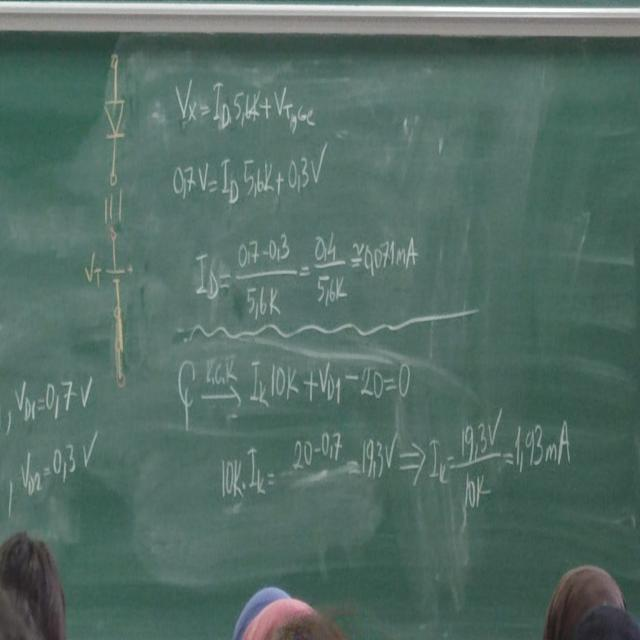image: (80, 38, 148, 198), (78, 221, 150, 363)
math: (215, 413, 578, 522), (182, 224, 427, 318), (246, 342, 418, 418), (10, 370, 104, 496), (164, 144, 333, 210), (167, 65, 321, 137)
